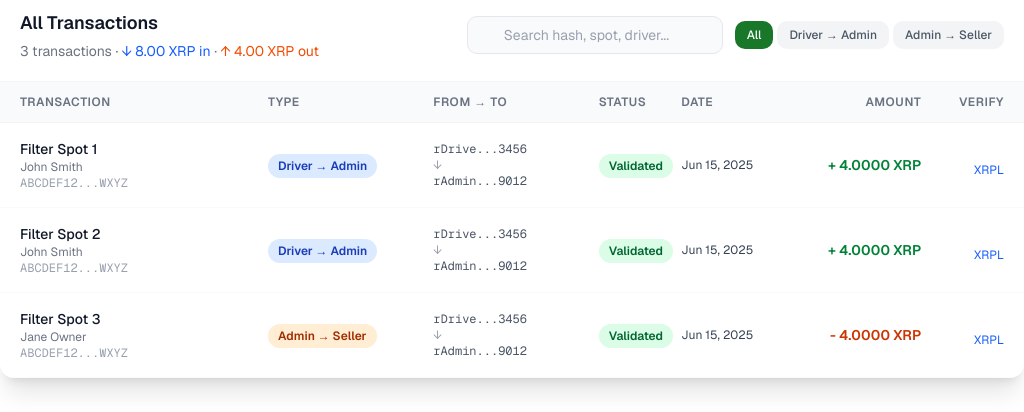
Test: TransactionTable Component › Type Filter Buttons › Admin → Seller filter shows only those
The image size is (1024, 412).
Expected: the text "Filter Spot 1" is shown, [20,140,97,158]
Step 1. Click the button "Admin → Seller" → point(949, 35), box [893,21,1004,49]
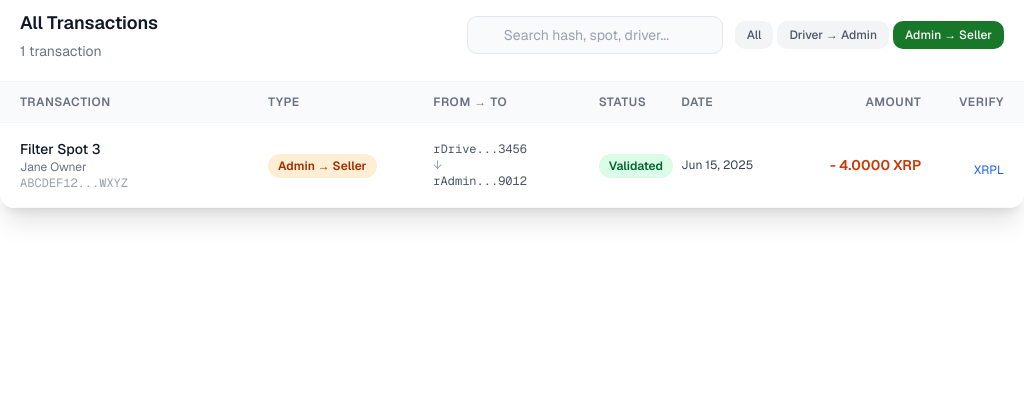
Expected: the text "Filter Spot 3" is shown, [20,140,100,158]
Now the text "Filter Spot 1" is gone
Now the text "Filter Spot 2" is gone
